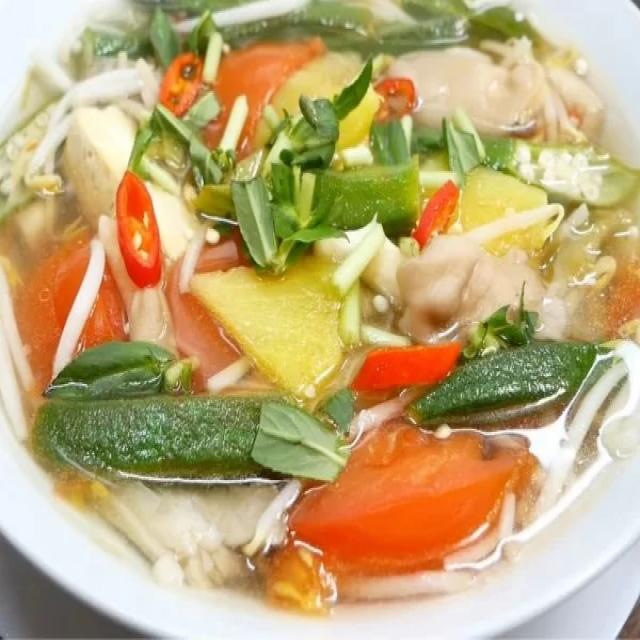canh chua: (0, 0, 639, 613)
